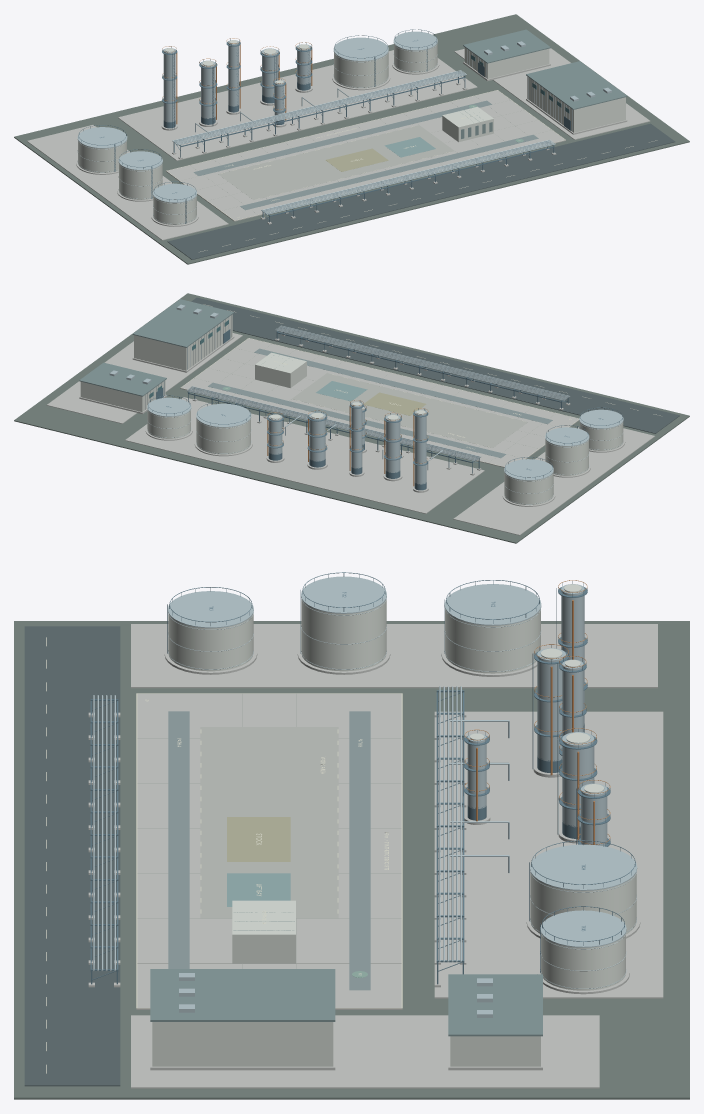
Rendered from hvo-demo.glb.
3 views of the same model, one above another, from view 1: azimuth 30°, elevation 25°; view 2: azimuth 150°, elevation 25°; view 3: azimuth 270°, elevation 25° (orthographic). The views are drawn at different scales.
Parts seen in each view (by area): view 1: CTX_MERGED__concrete, CTX_MERGED__earth, CTX_MERGED__steel, CTX_MERGED__asphalt, SITE_SLAB, CTX_MERGED__tank, REGION__WORK-AREA, CTX_MERGED__structure, CTX_MERGED__roof, REGION__PATH-A, REGION__PATH-B, REGION__OBSTACLE-01 (+4 smaller); view 2: CTX_MERGED__concrete, CTX_MERGED__earth, CTX_MERGED__steel, SITE_SLAB, CTX_MERGED__tank, CTX_MERGED__asphalt, REGION__WORK-AREA, CTX_MERGED__roof, CTX_MERGED__structure, REGION__PATH-A, REGION__PATH-B, REGION__OBSTACLE-01 (+4 smaller); view 3: CTX_MERGED__concrete, CTX_MERGED__earth, CTX_MERGED__asphalt, SITE_SLAB, CTX_MERGED__steel, CTX_MERGED__tank, REGION__WORK-AREA, CTX_MERGED__roof, CTX_MERGED__structure, REGION__PATH-B, REGION__PATH-A, REGION__OBSTACLE-01 (+5 smaller).
Part boxes in pixels (<box>): CTX_MERGED__concrete: <box>27,48,650,240</box>; CTX_MERGED__earth: <box>14,14,689,264</box>; CTX_MERGED__steel: <box>77,31,611,224</box>; CTX_MERGED__asphalt: <box>167,123,675,259</box>; SITE_SLAB: <box>166,90,565,221</box>; CTX_MERGED__tank: <box>78,40,625,224</box>; REGION__WORK-AREA: <box>218,125,454,200</box>; CTX_MERGED__structure: <box>78,29,570,223</box>; CTX_MERGED__roof: <box>463,29,627,109</box>; REGION__PATH-A: <box>240,134,538,210</box>; REGION__PATH-B: <box>193,100,491,175</box>; REGION__OBSTACLE-01: <box>442,106,493,142</box>; CTX_MERGED__concrete: <box>46,333,655,535</box>; CTX_MERGED__earth: <box>14,293,689,543</box>; CTX_MERGED__steel: <box>109,304,623,504</box>; SITE_SLAB: <box>180,338,579,467</box>; CTX_MERGED__tank: <box>80,314,623,505</box>; CTX_MERGED__asphalt: <box>191,297,679,433</box>; REGION__WORK-AREA: <box>292,373,527,447</box>; CTX_MERGED__roof: <box>79,299,234,396</box>; CTX_MERGED__structure: <box>148,327,622,490</box>; REGION__PATH-A: <box>254,348,552,423</box>; REGION__PATH-B: <box>208,382,506,457</box>; REGION__OBSTACLE-01: <box>255,352,306,387</box>; CTX_MERGED__concrete: <box>88,624,663,1088</box>; CTX_MERGED__earth: <box>14,621,689,1099</box>; CTX_MERGED__asphalt: <box>24,626,120,1086</box>; SITE_SLAB: <box>136,693,402,1009</box>; CTX_MERGED__steel: <box>93,576,637,1017</box>; CTX_MERGED__tank: <box>152,584,636,1066</box>; REGION__WORK-AREA: <box>200,727,338,918</box>; CTX_MERGED__roof: <box>150,969,542,1036</box>; CTX_MERGED__structure: <box>90,572,635,984</box>; REGION__PATH-B: <box>349,711,370,990</box>; REGION__PATH-A: <box>168,711,189,968</box>; REGION__OBSTACLE-01: <box>232,900,295,963</box>.
Size of the model in its own units: 212 by 32.23 by 127.
